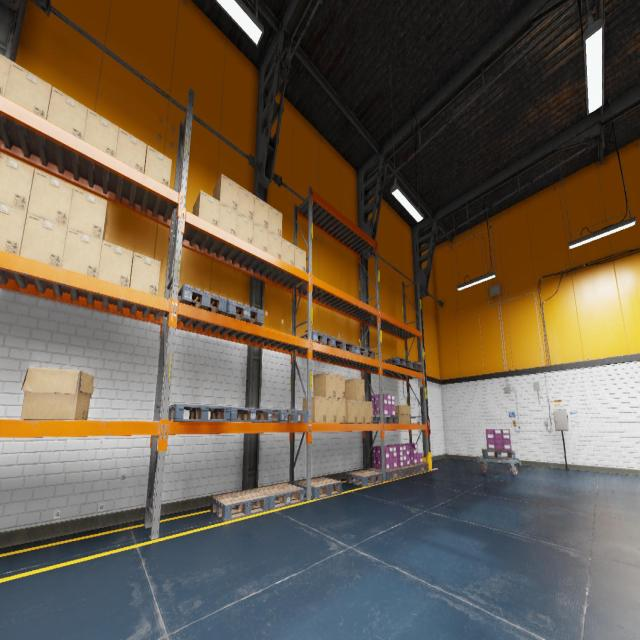box: (20, 367, 94, 419), (4, 61, 52, 119), (28, 169, 74, 227), (20, 213, 67, 267), (46, 86, 88, 140), (68, 186, 107, 240), (61, 227, 102, 278), (0, 153, 34, 213), (83, 108, 119, 157), (98, 240, 132, 287), (115, 127, 147, 173), (0, 202, 27, 255), (129, 252, 161, 295), (144, 145, 172, 187), (192, 190, 220, 227), (213, 174, 238, 211), (218, 202, 237, 236), (303, 396, 326, 422), (313, 372, 336, 398), (237, 185, 254, 220), (253, 196, 269, 230), (236, 212, 253, 244), (0, 53, 11, 96), (268, 205, 282, 238), (345, 378, 365, 401), (253, 222, 268, 252), (268, 230, 282, 259), (392, 404, 411, 424), (281, 238, 294, 266), (294, 245, 306, 272), (345, 400, 357, 423), (326, 397, 336, 423), (336, 374, 345, 399), (336, 398, 345, 423), (365, 401, 373, 423), (357, 401, 365, 423)
pallets: (211, 489, 269, 521), (178, 284, 227, 315), (253, 483, 304, 510), (168, 404, 231, 422), (224, 300, 264, 326), (297, 477, 342, 499), (230, 407, 272, 422), (346, 469, 383, 486), (300, 331, 334, 347), (272, 409, 308, 422), (482, 448, 516, 460), (326, 339, 355, 353), (370, 468, 403, 480), (348, 346, 375, 359), (382, 356, 411, 368), (397, 464, 417, 476), (410, 462, 429, 473), (373, 416, 399, 423), (405, 362, 422, 372)
